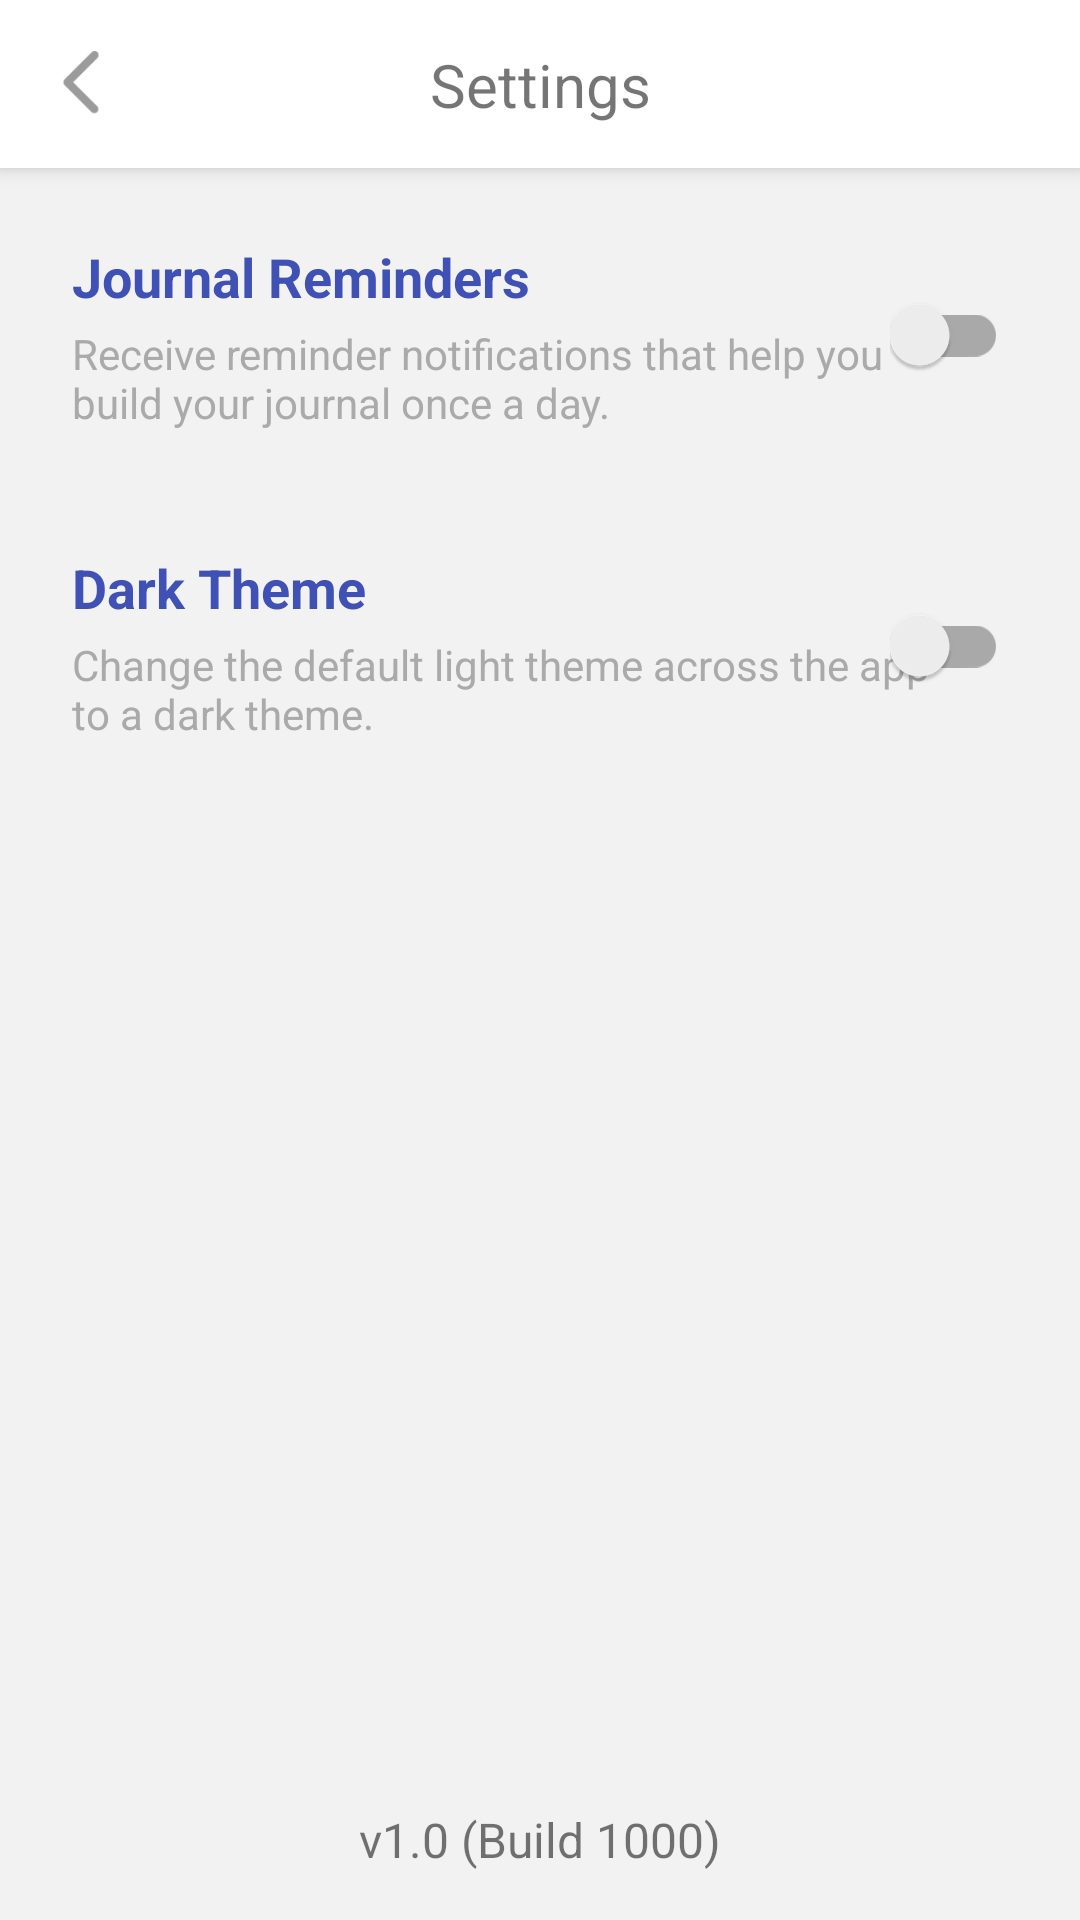

Icons on this 1080×1920 Android screen, each with its box as (x1, y1, x2, y2):
back rounded: (63, 51, 99, 113)
